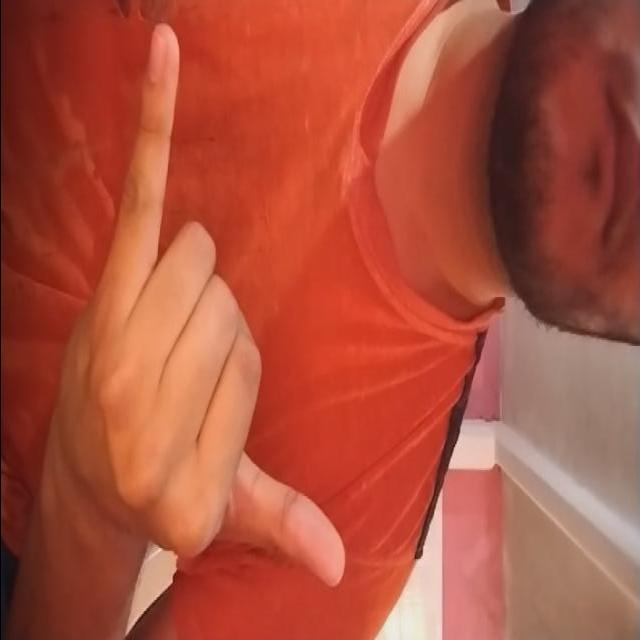Y: (36, 9, 350, 640)
